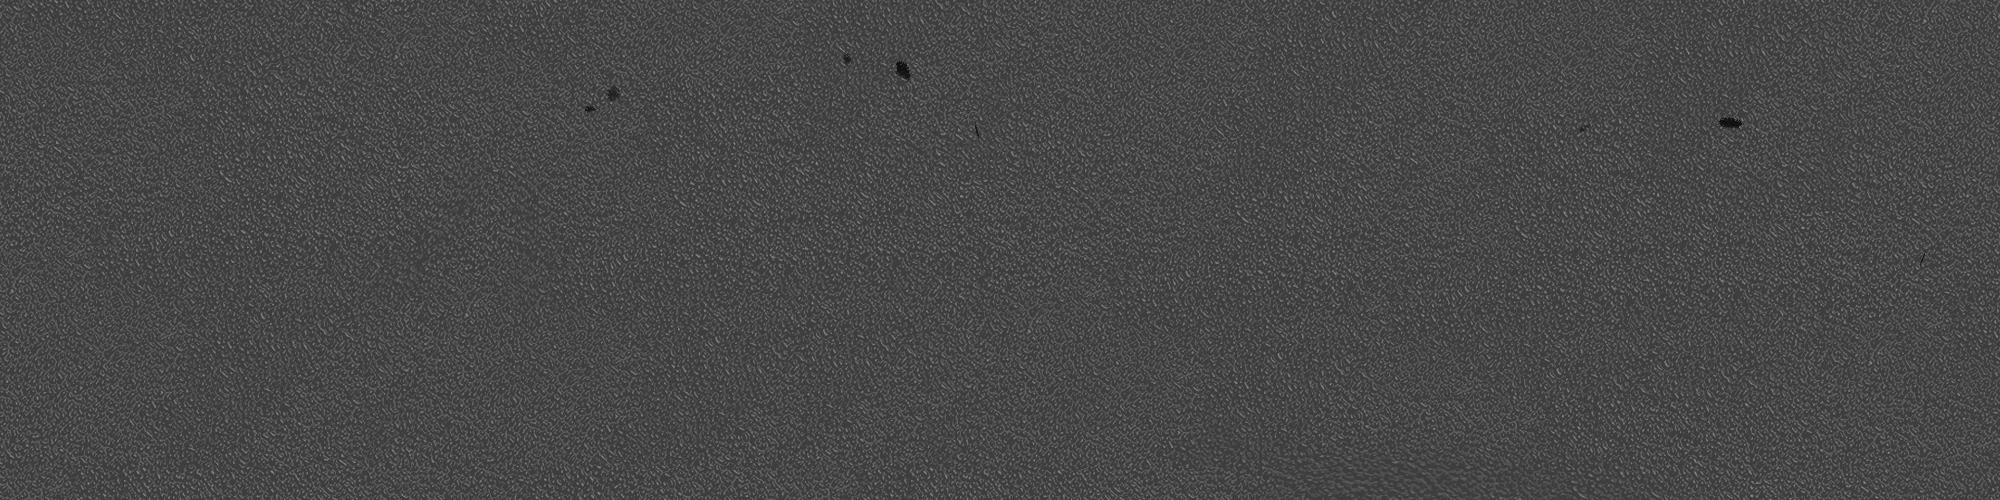Decomposed: (890, 54, 920, 83), (966, 117, 986, 140), (605, 80, 621, 108), (841, 40, 852, 68), (582, 105, 598, 119), (1578, 116, 1592, 133)
